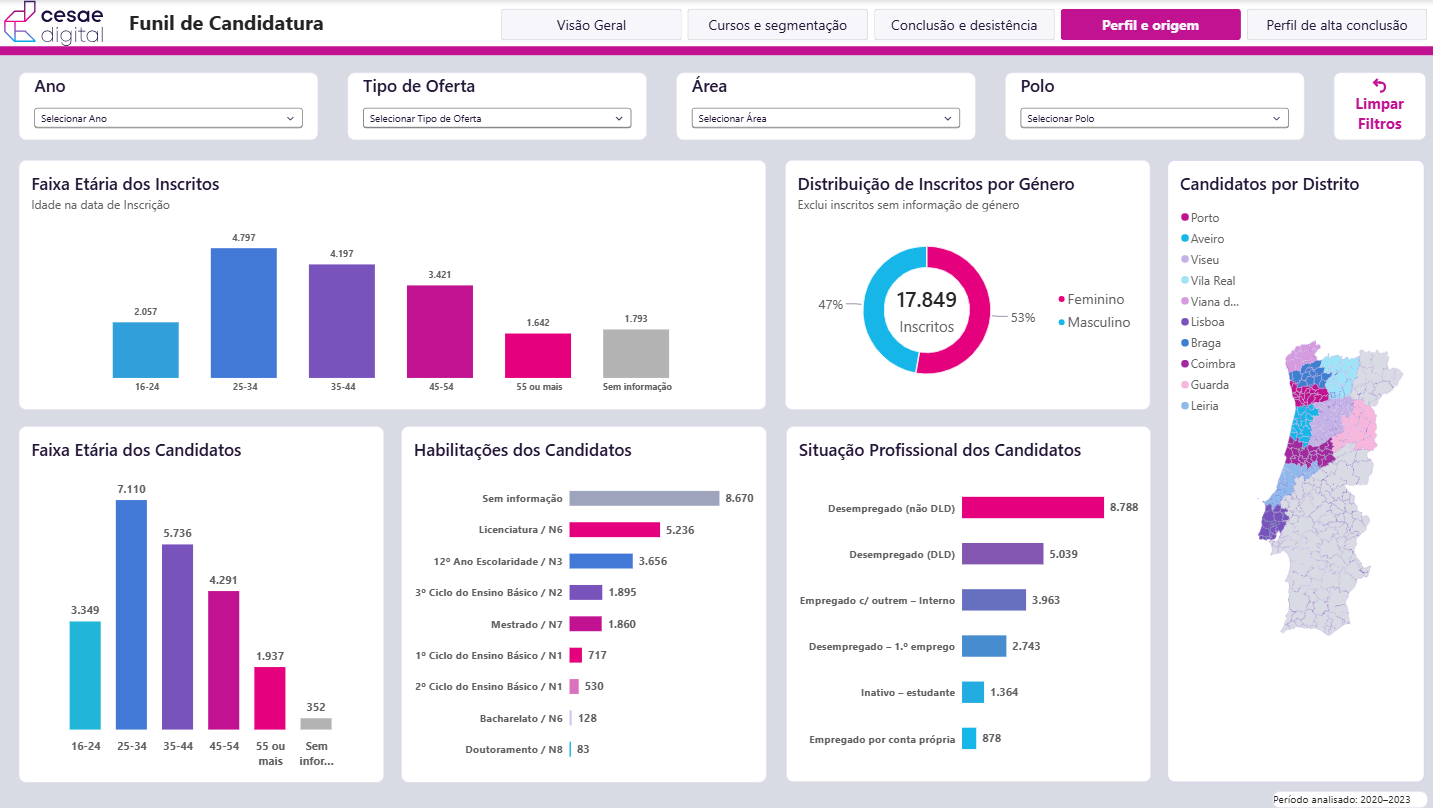

The page's visual inventory and layout, read from the dashboard file:
{"tool":"powerbi","page":{"name":"Perfil e origem","canvas":[1920,1080],"ordinal":3},"visuals":[{"type":"shape","box":[0,0,1920,72],"z":0},{"type":"image","box":[0,0,144,62],"z":1000},{"type":"shape","box":[0,62,1920,12],"z":2000},{"type":"textbox","box":[172,12,318,42],"z":3000},{"type":"pageNavigator","box":[670,12,1240,42],"z":4000},{"type":"clusteredColumnChart","title":"Faixa Etária dos Inscritos","fields":{"Category":["Inscrito.FaixaEtaria"],"Y":["_Medidas.Total Inscritos"]},"box":[25.8,214.2,998.3,333.3],"z":5000},{"type":"donutChart","title":"Distribuição de Inscritos por Género","fields":{"Category":["Inscrito.Género Exibição"],"Y":["_Medidas.Total Inscritos"]},"box":[1049.2,214.2,488.3,333.3],"z":6000},{"type":"clusteredColumnChart","title":"Faixa Etária dos Candidatos ","fields":{"Category":["PreInscricaoSite.FaixaEtaria"],"Y":["_Medidas.Total Candidatos"]},"box":[25.8,569.8,488,476],"z":7000},{"type":"clusteredBarChart","title":"Habilitações dos Candidatos ","fields":{"Category":["PreInscricaoSite.DesignacaoHabilitacao"],"Y":["_Medidas.Pré-inscrições"]},"box":[536.5,569.8,488,476],"z":8000},{"type":"clusteredBarChart","title":"Situação Profissional dos Candidatos","fields":{"Category":["PreInscricaoSite.Situação Profissional (curta)"],"Y":["_Medidas.Pré-inscrições"]},"box":[1050,570,487.5,475],"z":9000},{"type":"shapeMap","title":"Candidatos por Distrito","fields":{"Category":["PreInscricaoSite.Distrito"],"Series":["PreInscricaoSite.Distrito"],"Value":["_Medidas.Pré-inscrições"]},"box":[1559.2,214.2,343.3,831],"z":10000},{"type":"textbox","box":[1700,1057.5,207.5,22.5],"z":11000},{"type":"listSlicer","fields":{"Values":["Calendario.Ano"]},"box":[25,97.5,400,90],"z":12000},{"type":"listSlicer","fields":{"Values":["CentroPolo.Designacao_Padronizada"]},"box":[1342.8,97.5,400,90],"z":13000},{"type":"listSlicer","fields":{"Values":["AuxArea.Designacao"]},"box":[903.5,97.5,400,90],"z":14000},{"type":"listSlicer","fields":{"Values":["Accao.TipoOferta"]},"box":[464.2,97.5,400,90],"z":15000},{"type":"actionButton","box":[1782,97.5,123,90],"z":16000}]}

Visuals, with their boxes in screenshot pixels (x1, y1, x2, y2), scaled from the page's 1920x1080 canvas onto the 1433x808 screenshot:
shape: (left=0, top=0, right=1432, bottom=54)
image: (left=0, top=0, right=107, bottom=46)
shape: (left=0, top=46, right=1432, bottom=55)
textbox: (left=128, top=9, right=366, bottom=40)
pageNavigator: (left=500, top=9, right=1426, bottom=40)
"Faixa Etária dos Inscritos" clusteredColumnChart: (left=19, top=160, right=764, bottom=410)
"Distribuição de Inscritos por Género" donutChart: (left=783, top=160, right=1148, bottom=410)
"Faixa Etária dos Candidatos " clusteredColumnChart: (left=19, top=426, right=383, bottom=782)
"Habilitações dos Candidatos " clusteredBarChart: (left=400, top=426, right=765, bottom=782)
"Situação Profissional dos Candidatos" clusteredBarChart: (left=784, top=426, right=1148, bottom=782)
"Candidatos por Distrito" shapeMap: (left=1164, top=160, right=1420, bottom=782)
textbox: (left=1269, top=791, right=1424, bottom=807)
listSlicer - Calendario.Ano: (left=19, top=73, right=317, bottom=140)
listSlicer - CentroPolo.Designacao_Padronizada: (left=1002, top=73, right=1301, bottom=140)
listSlicer - AuxArea.Designacao: (left=674, top=73, right=973, bottom=140)
listSlicer - Accao.TipoOferta: (left=346, top=73, right=645, bottom=140)
actionButton: (left=1330, top=73, right=1422, bottom=140)
